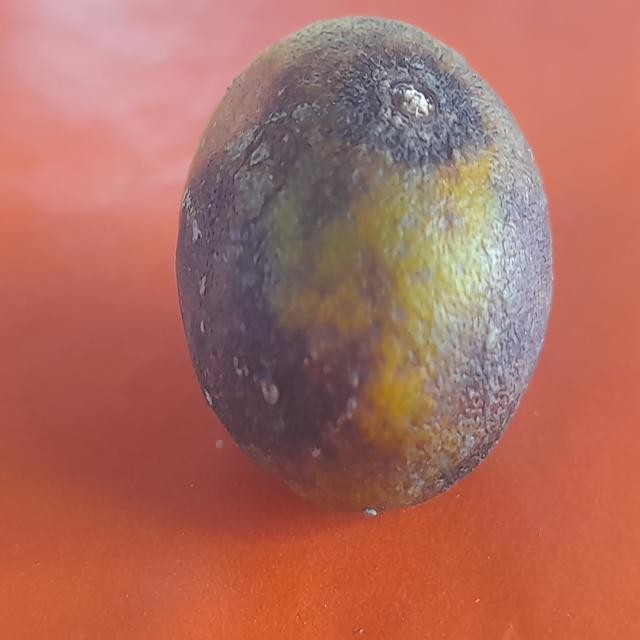black spot: (167, 9, 557, 544)
